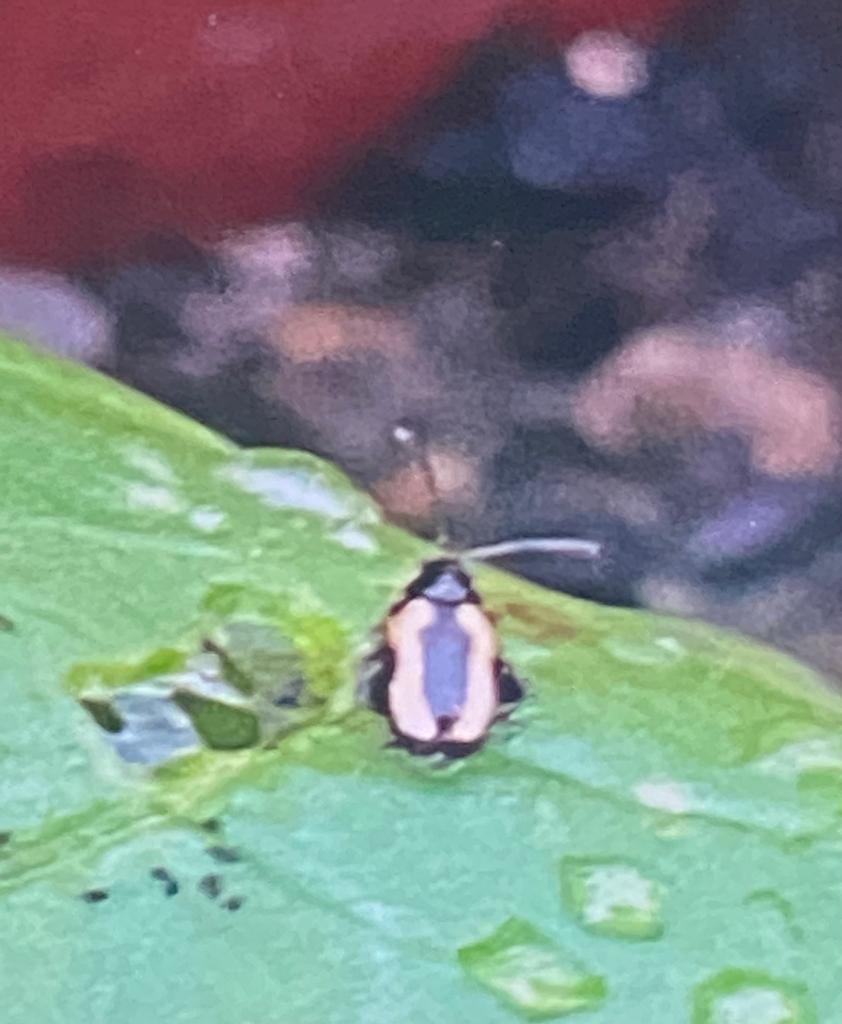flea_beetle: (306, 415, 614, 823)
